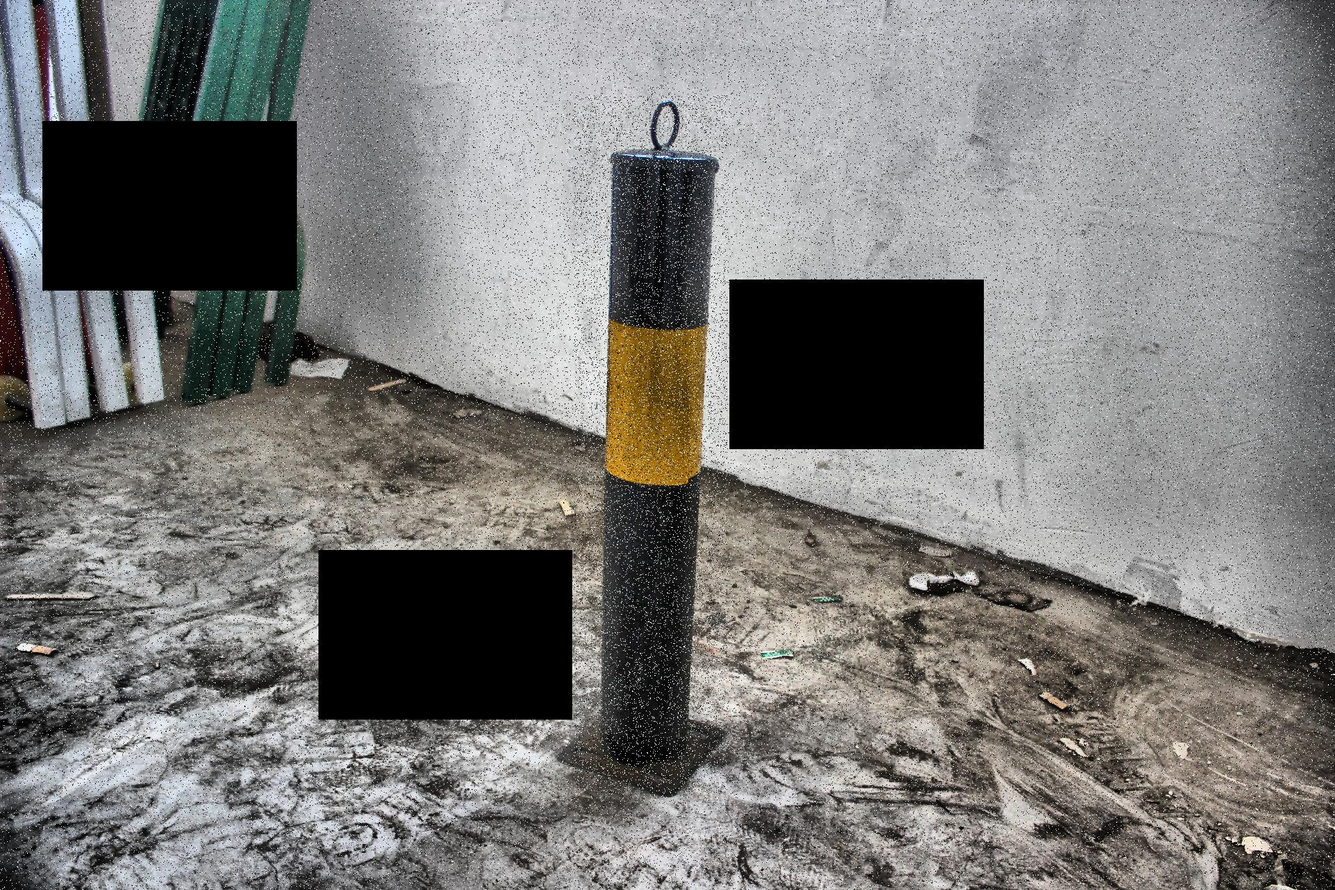bench: (574, 95, 728, 793)
